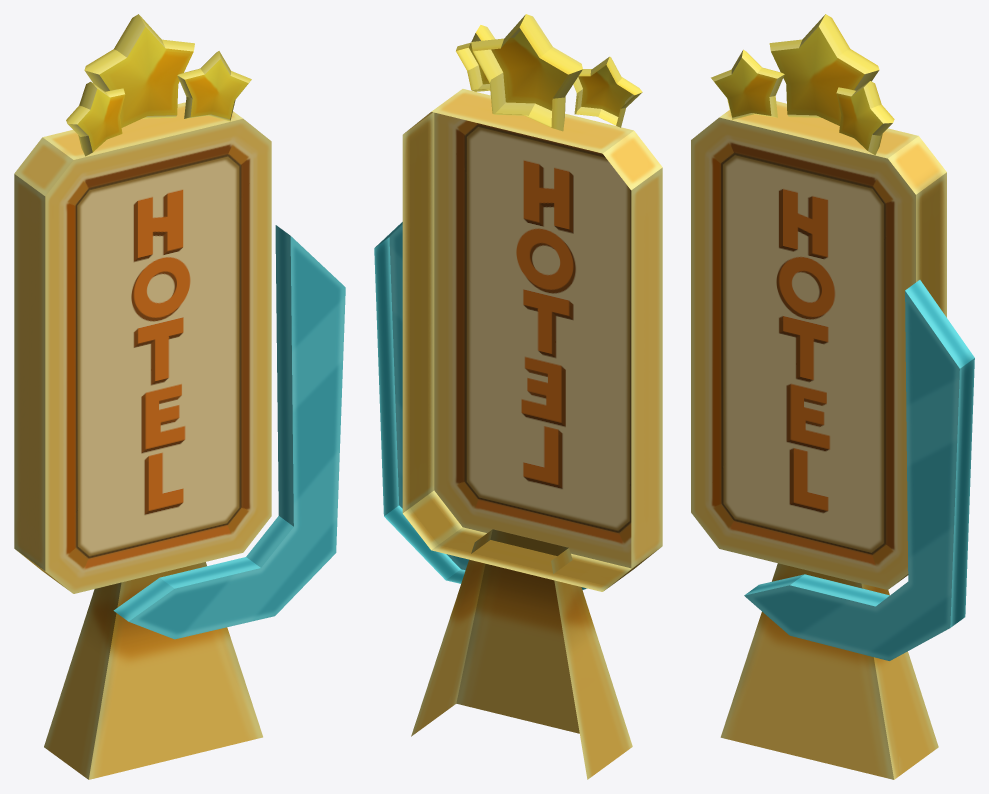
The model's file is sign_hotel.fbx.
The picture shows the model from 3 angles, left to right: view 1: azimuth 30°, elevation 25°; view 2: azimuth 150°, elevation 25°; view 3: azimuth 330°, elevation 25°; orthographic projection.
Visible parts, largest first — view 1: polySurface6, polySurface5, polySurface4, polySurface3, polySurface1, polySurface2; view 2: polySurface6, polySurface4, polySurface5, polySurface3, polySurface2, polySurface1; view 3: polySurface6, polySurface5, polySurface4, polySurface3, polySurface2, polySurface1.
Boxes of the visible parts, <box> form: polySurface6: <box>14,102,271,593</box>; polySurface5: <box>113,225,345,639</box>; polySurface4: <box>44,562,262,779</box>; polySurface3: <box>84,14,194,127</box>; polySurface1: <box>177,51,251,121</box>; polySurface2: <box>66,81,125,156</box>; polySurface6: <box>402,89,662,591</box>; polySurface4: <box>411,529,632,779</box>; polySurface5: <box>374,222,586,589</box>; polySurface3: <box>471,14,582,131</box>; polySurface2: <box>573,56,642,127</box>; polySurface1: <box>456,25,495,91</box>; polySurface6: <box>691,101,946,589</box>; polySurface5: <box>744,280,974,660</box>; polySurface4: <box>720,563,938,779</box>; polySurface3: <box>769,14,879,125</box>; polySurface2: <box>711,49,784,119</box>; polySurface1: <box>836,81,894,155</box>.
Bounding box in the file's own units: 6.57 × 15.98 × 2.11.
